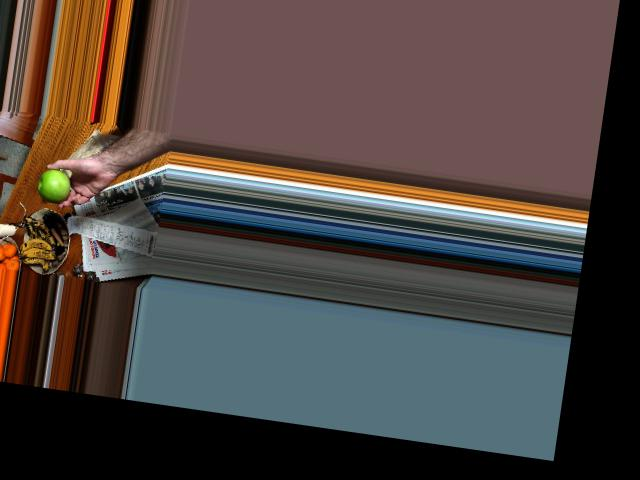apple: (32, 164, 75, 205)
